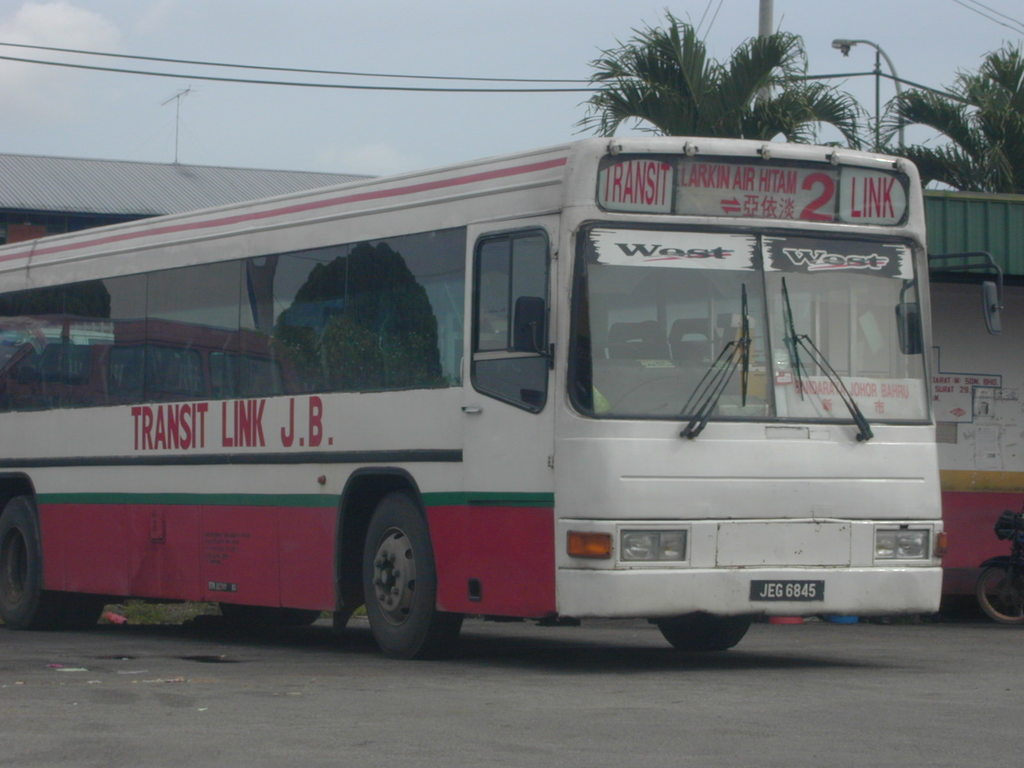Bus: (0, 135, 951, 663)
